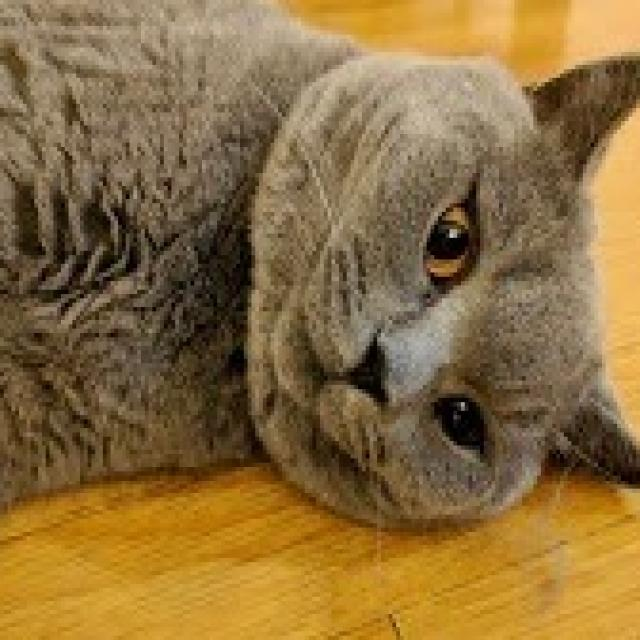British Shorthair: (0, 0, 640, 532)
